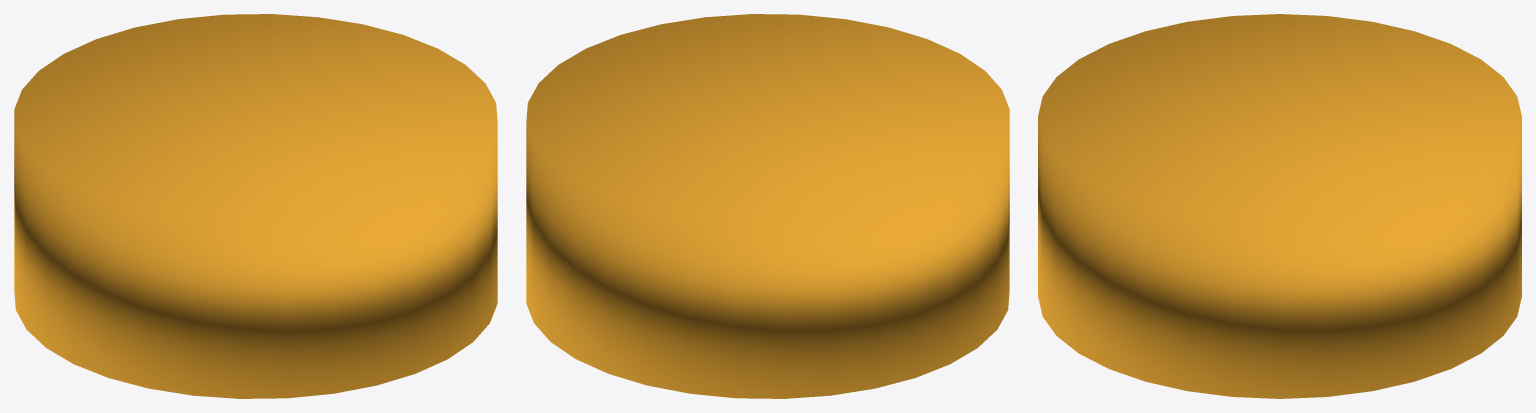
Rendered from plane_puck.gltf.
The picture shows the model from 3 angles, left to right: view 1: azimuth 30°, elevation 25°; view 2: azimuth 150°, elevation 25°; view 3: azimuth 270°, elevation 25°; orthographic projection.
Parts seen in each view (by area): view 1: Cylinder; view 2: Cylinder; view 3: Cylinder.
Boxes of the visible parts, <box> form: Cylinder: <box>14,14,497,398</box>; Cylinder: <box>526,14,1009,398</box>; Cylinder: <box>1038,14,1521,398</box>.
Bounding box in the file's own units: 83.21 × 34.25 × 83.21.
